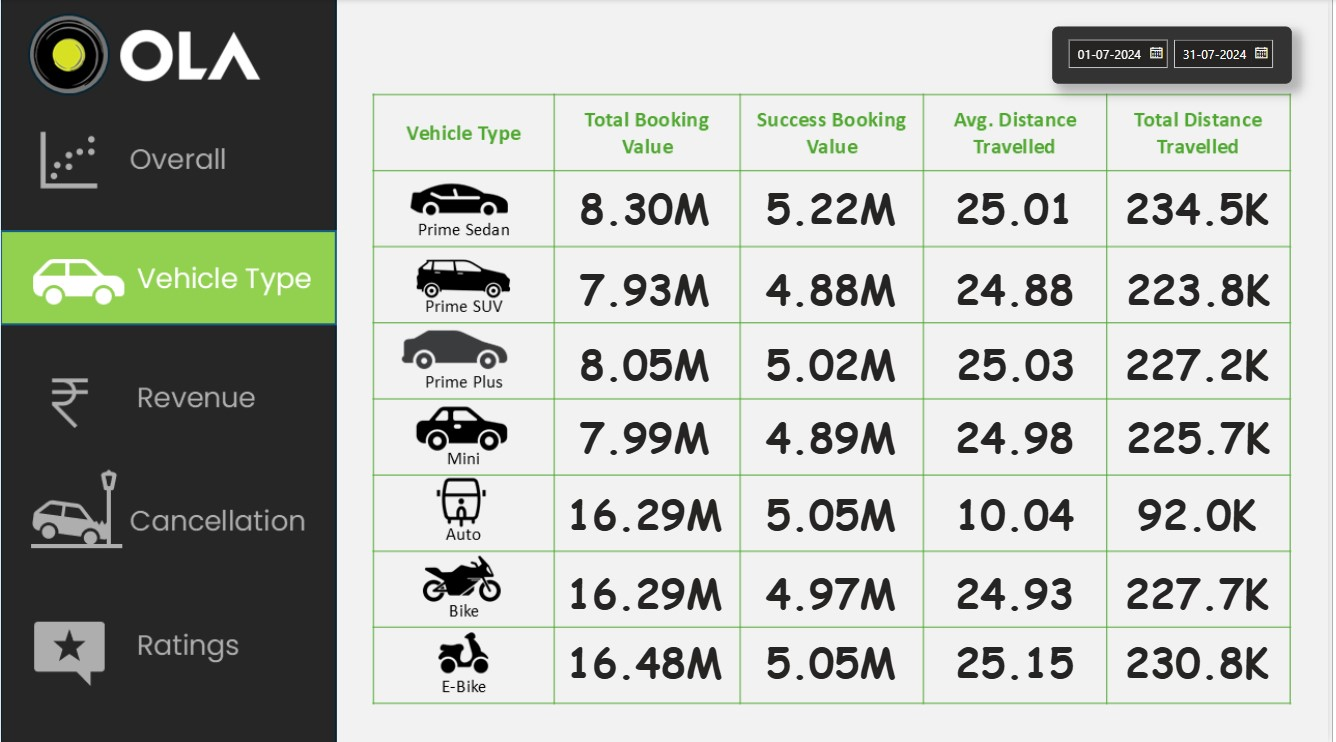

Layout of this report page (visuals, bound fields, positions):
{"tool":"powerbi","page":{"name":"Vehicle Type","canvas":[1280,720],"ordinal":1},"visuals":[{"type":"actionButton","box":[0,118.2,323.3,90.5],"z":0},{"type":"actionButton","box":[0,337.8,323.3,90.5],"z":1000},{"type":"actionButton","box":[0,577.9,323.3,90.5],"z":2000},{"type":"actionButton","box":[0,451.2,323.3,90.5],"z":3000},{"type":"card","title":"Total Booking","fields":{"Values":["Sum(July.Booking_Value)"]},"box":[541.1,170.9,162,60.5],"z":4000},{"type":"card","title":"Total Booking","fields":{"Values":["Sum(July.Booking_Value)"]},"box":[541.1,249.2,162,60.5],"z":5000},{"type":"card","title":"Total Booking","fields":{"Values":["Sum(July.Booking_Value)"]},"box":[541.1,322.1,162,60.5],"z":6000},{"type":"card","title":"Total Booking","fields":{"Values":["Sum(July.Booking_Value)"]},"box":[541.1,391.6,162,60.5],"z":7000},{"type":"card","title":"Total Booking","fields":{"Values":["Sum(July.Booking_Value)"]},"box":[541.1,466.3,162,60.5],"z":8000},{"type":"card","title":"Total Booking","fields":{"Values":["Sum(July.Booking_Value)"]},"box":[541.1,542.8,162,60.5],"z":9000},{"type":"card","title":"Total Booking","fields":{"Values":["Sum(July.Booking_Value)"]},"box":[541.1,608.7,162,60.5],"z":10000},{"type":"card","title":"Total Booking","fields":{"Values":["Sum(July.Booking_Value)"]},"box":[720.8,170.9,162,60.5],"z":11000},{"type":"card","title":"Total Booking","fields":{"Values":["Sum(July.Booking_Value)"]},"box":[720.8,322.1,162,60.5],"z":12000},{"type":"card","title":"Total Booking","fields":{"Values":["Sum(July.Booking_Value)"]},"box":[720.8,391.6,162,60.5],"z":13000},{"type":"card","title":"Total Booking","fields":{"Values":["Sum(July.Booking_Value)"]},"box":[720.8,466.3,162,60.5],"z":14000},{"type":"card","title":"Total Booking","fields":{"Values":["Sum(July.Booking_Value)"]},"box":[720.8,542.8,162,60.5],"z":15000},{"type":"card","title":"Total Booking","fields":{"Values":["Sum(July.Booking_Value)"]},"box":[720.8,608.7,162,60.5],"z":16000},{"type":"card","title":"Total Booking","fields":{"Values":["Sum(July.Booking_Value)"]},"box":[720.8,249.2,162,60.5],"z":17000},{"type":"card","title":"Total Booking","fields":{"Values":["Avg(July.Ride_Distance)"]},"box":[897,170.9,162,60.5],"z":18000},{"type":"card","title":"Total Booking","fields":{"Values":["Avg(July.Ride_Distance)"]},"box":[897,249.2,162,60.5],"z":19000},{"type":"card","title":"Total Booking","fields":{"Values":["Avg(July.Ride_Distance)"]},"box":[898.8,322.1,162,60.5],"z":20000},{"type":"card","title":"Total Booking","fields":{"Values":["Avg(July.Ride_Distance)"]},"box":[897,391.6,162,60.5],"z":21000},{"type":"card","title":"Total Booking","fields":{"Values":["Avg(July.Ride_Distance)"]},"box":[897,466.3,162,60.5],"z":22000},{"type":"card","title":"Total Booking","fields":{"Values":["Avg(July.Ride_Distance)"]},"box":[897,542.8,162,60.5],"z":23000},{"type":"card","title":"Total Booking","fields":{"Values":["Avg(July.Ride_Distance)"]},"box":[897,608.7,162,60.5],"z":24000},{"type":"card","title":"Total Booking","fields":{"Values":["Sum(July.Ride_Distance)"]},"box":[1073.2,170.9,162,60.5],"z":25000},{"type":"card","title":"Total Booking","fields":{"Values":["Sum(July.Ride_Distance)"]},"box":[1073.2,322.1,162,60.5],"z":26000},{"type":"card","title":"Total Booking","fields":{"Values":["Sum(July.Ride_Distance)"]},"box":[1075,391.6,162,60.5],"z":27000},{"type":"card","title":"Total Booking","fields":{"Values":["Sum(July.Ride_Distance)"]},"box":[1073.2,466.3,162,60.5],"z":28000},{"type":"card","title":"Total Booking","fields":{"Values":["Sum(July.Ride_Distance)"]},"box":[1073.2,542.8,162,60.5],"z":29000},{"type":"card","title":"Total Booking","fields":{"Values":["Sum(July.Ride_Distance)"]},"box":[1073.2,608.7,162,60.5],"z":30000},{"type":"card","title":"Total Booking","fields":{"Values":["Sum(July.Ride_Distance)"]},"box":[1075,249.2,162,60.5],"z":31000},{"type":"slicer","title":"Date","fields":{"Values":["July.Date"]},"box":[1014.3,26,230.8,54.8],"z":32000}]}

Visuals, with their boxes on the page's 1280x720 design canvas (x1, y1, x2, y2). These are canvas units, not pixel positions in the 1336x742 screenshot, which may show the page scaled, cropped or inside an application window:
actionButton: (left=0, top=118, right=323, bottom=209)
actionButton: (left=0, top=338, right=323, bottom=428)
actionButton: (left=0, top=578, right=323, bottom=668)
actionButton: (left=0, top=451, right=323, bottom=542)
"Total Booking" card: (left=541, top=171, right=703, bottom=231)
"Total Booking" card: (left=541, top=249, right=703, bottom=310)
"Total Booking" card: (left=541, top=322, right=703, bottom=383)
"Total Booking" card: (left=541, top=392, right=703, bottom=452)
"Total Booking" card: (left=541, top=466, right=703, bottom=527)
"Total Booking" card: (left=541, top=543, right=703, bottom=603)
"Total Booking" card: (left=541, top=609, right=703, bottom=669)
"Total Booking" card: (left=721, top=171, right=883, bottom=231)
"Total Booking" card: (left=721, top=322, right=883, bottom=383)
"Total Booking" card: (left=721, top=392, right=883, bottom=452)
"Total Booking" card: (left=721, top=466, right=883, bottom=527)
"Total Booking" card: (left=721, top=543, right=883, bottom=603)
"Total Booking" card: (left=721, top=609, right=883, bottom=669)
"Total Booking" card: (left=721, top=249, right=883, bottom=310)
"Total Booking" card: (left=897, top=171, right=1059, bottom=231)
"Total Booking" card: (left=897, top=249, right=1059, bottom=310)
"Total Booking" card: (left=899, top=322, right=1061, bottom=383)
"Total Booking" card: (left=897, top=392, right=1059, bottom=452)
"Total Booking" card: (left=897, top=466, right=1059, bottom=527)
"Total Booking" card: (left=897, top=543, right=1059, bottom=603)
"Total Booking" card: (left=897, top=609, right=1059, bottom=669)
"Total Booking" card: (left=1073, top=171, right=1235, bottom=231)
"Total Booking" card: (left=1073, top=322, right=1235, bottom=383)
"Total Booking" card: (left=1075, top=392, right=1237, bottom=452)
"Total Booking" card: (left=1073, top=466, right=1235, bottom=527)
"Total Booking" card: (left=1073, top=543, right=1235, bottom=603)
"Total Booking" card: (left=1073, top=609, right=1235, bottom=669)
"Total Booking" card: (left=1075, top=249, right=1237, bottom=310)
"Date" slicer: (left=1014, top=26, right=1245, bottom=81)
